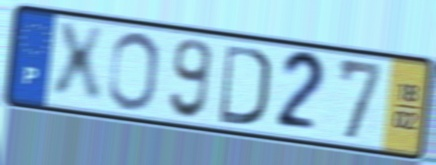2: (271, 49, 331, 142)
7: (337, 56, 386, 143)
9: (169, 36, 215, 122)
D: (217, 41, 272, 130)
O: (105, 29, 161, 114)
X: (51, 20, 108, 107)
